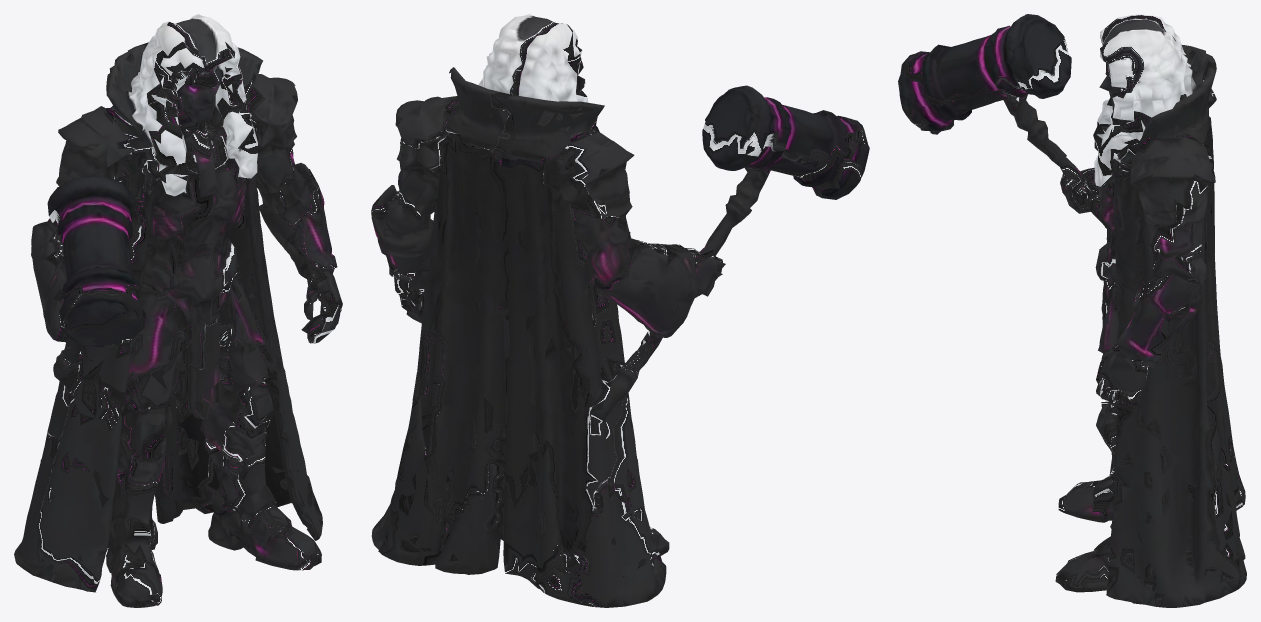
File: statue-8.glb
The picture shows the model from 3 angles, left to right: view 1: azimuth 30°, elevation 25°; view 2: azimuth 150°, elevation 25°; view 3: azimuth 270°, elevation 25°; orthographic projection.
Parts seen in each view (by area): view 1: body; view 2: body; view 3: body.
Part boxes in pixels (x1,y1,x2,y2): body: (14,14,342,607); body: (371,14,869,607); body: (898,14,1246,607).
Size of the model in its own units: 0.7355 by 0.9994 by 0.602.
Materials: 1 (1 with a texture image).
